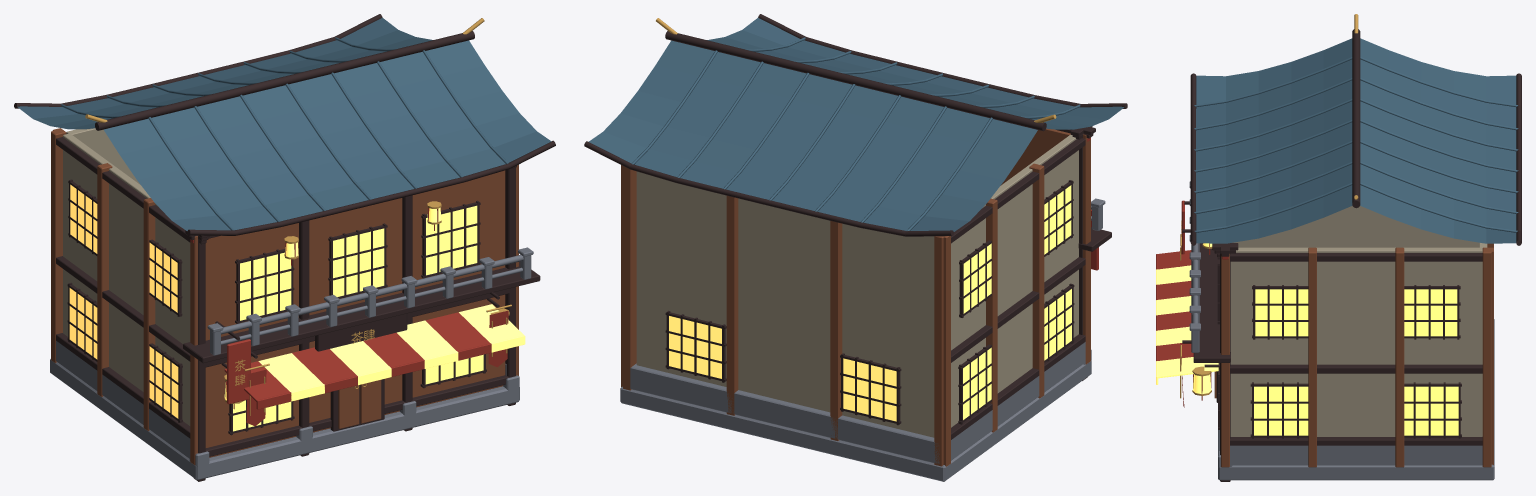
Rendered from model-shop-02.glb.
3 renders of one model, left to right at view 1: azimuth 30°, elevation 25°; view 2: azimuth 150°, elevation 25°; view 3: azimuth 270°, elevation 25°, orthographic. The views are drawn at different scales.
Visible parts, largest first — view 1: model-shop-02; view 2: model-shop-02; view 3: model-shop-02.
Part boxes in pixels (x1=…): model-shop-02: x1=14, y1=14, x2=555, y2=481; model-shop-02: x1=584, y1=14, x2=1127, y2=481; model-shop-02: x1=1156, y1=14, x2=1521, y2=481.
Bounding box in the file's own units: 11.55 × 8.99 × 9.78.
